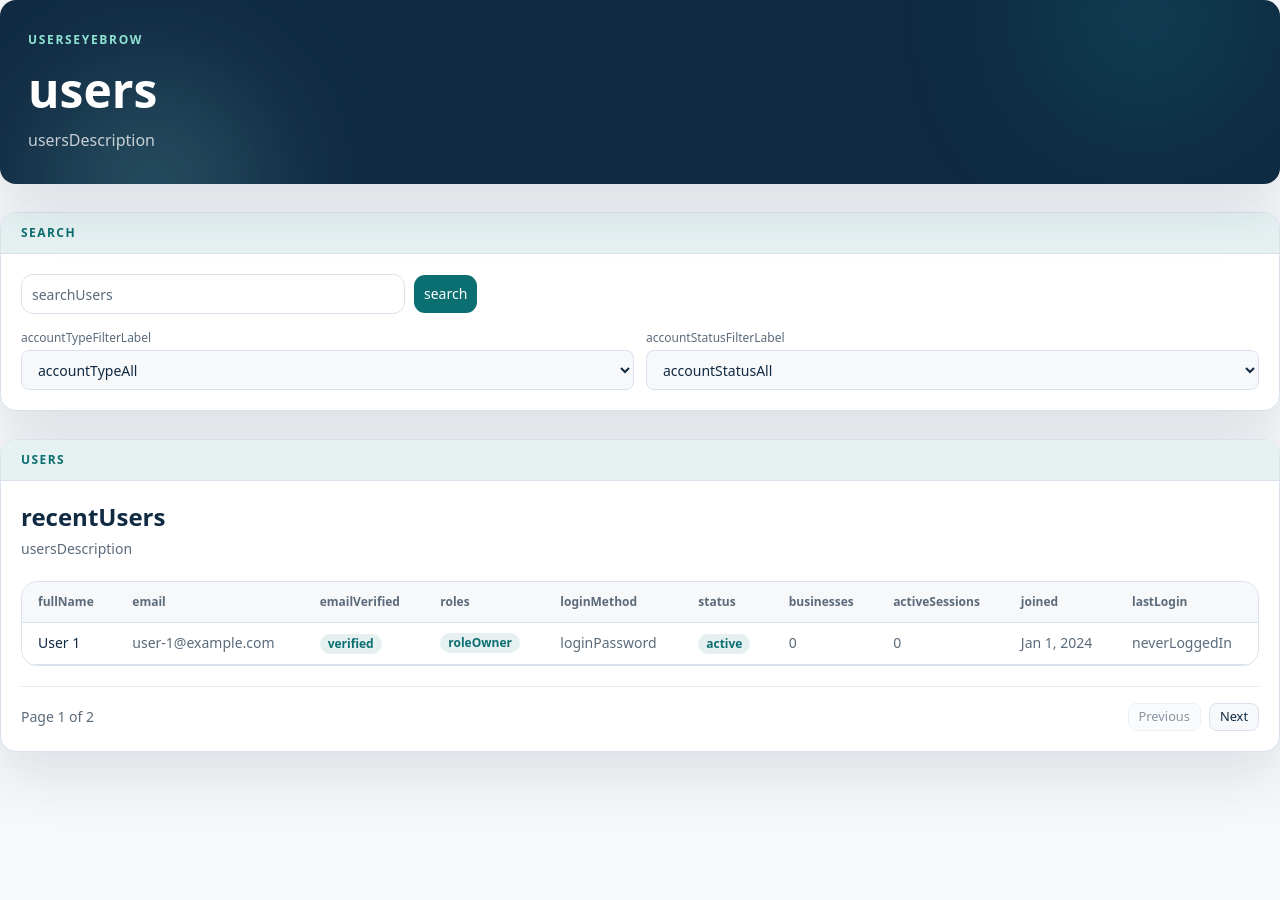
Test: AdminUsersPage pagination › requests and renders the next page when Next is clicked
This screenshot has width=1280, height=900.
Expected: the text "user-1@example.com" is shown, [116,622,304,664]
Click the button with aria-label "Next page". click: (1234, 716)
box: [1209,702,1259,730]
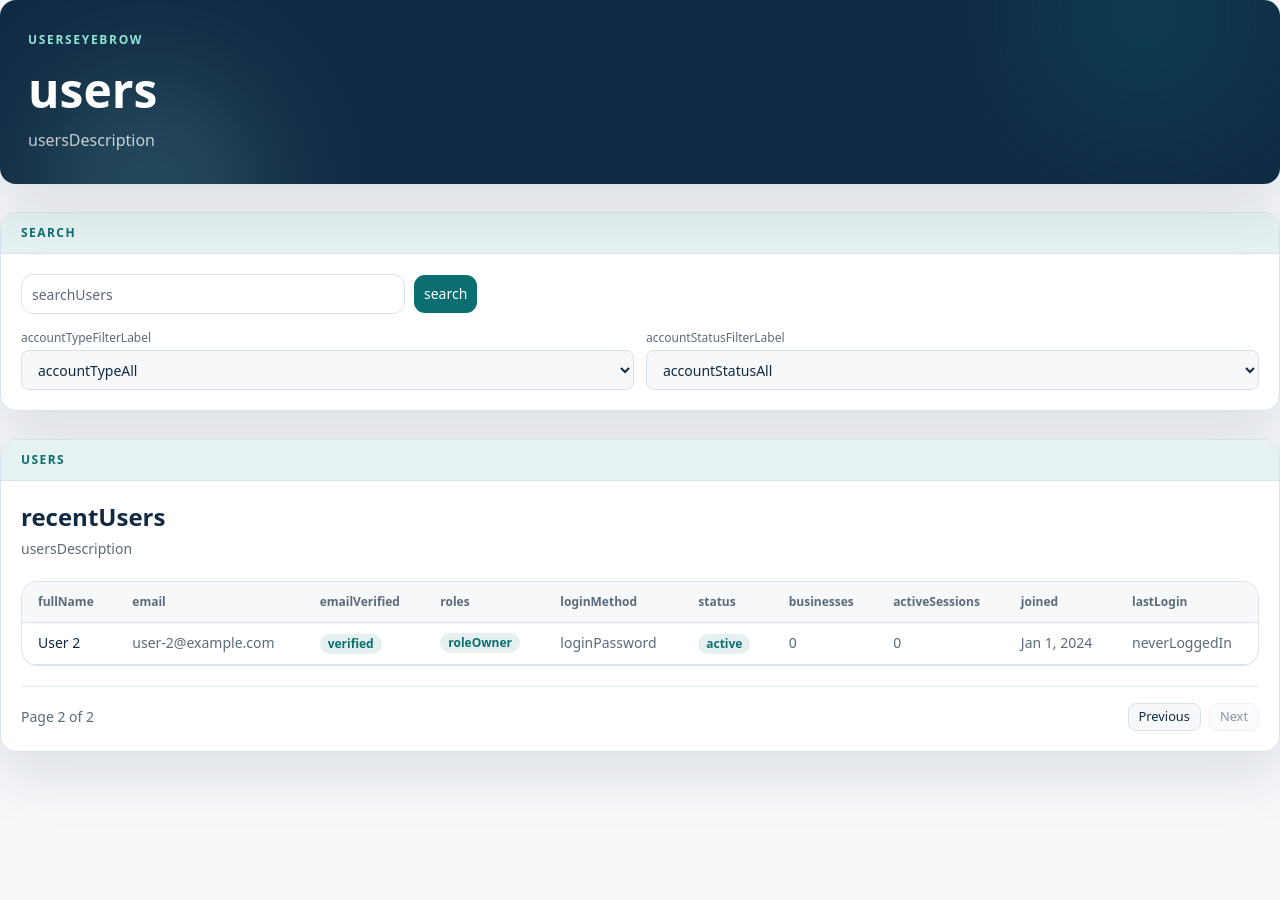
Now the text "user-2@example.com" is shown, box [116,622,304,664]
Now the text "Page 2 of 2" is shown, box [21,706,94,726]
